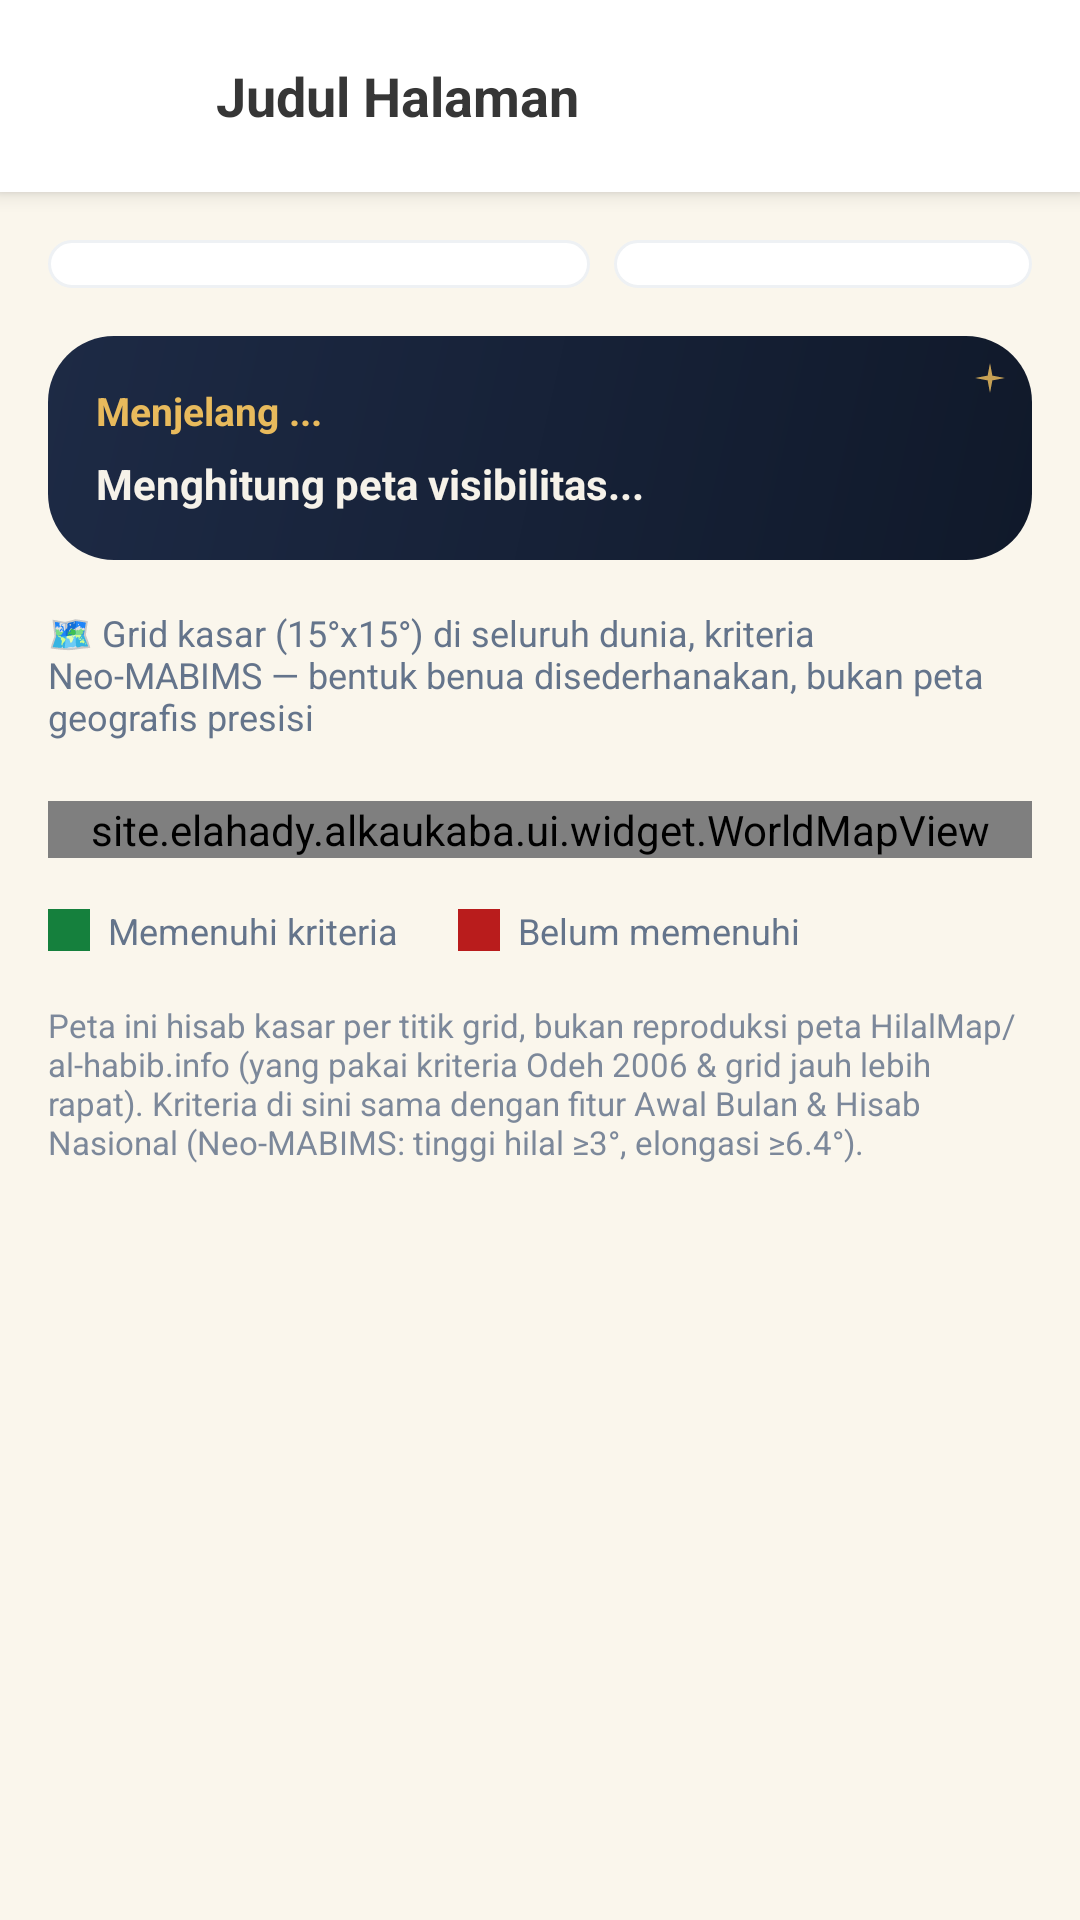

Locate icon controls on the screen. Image size 1080 × 1920, boxes as (x1, y1, x2, y2).
sparkle: (976, 364, 1004, 392)
